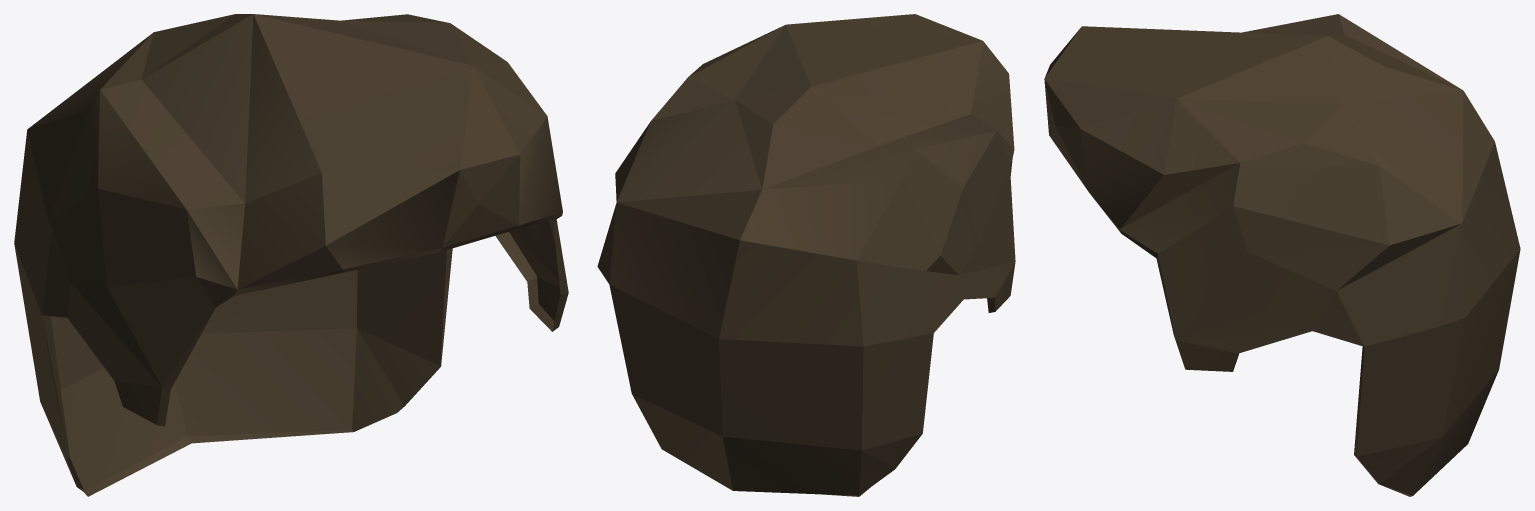
The model's file is Hair_01_SM.FBX.
3 views of the same model, side by side, from view 1: azimuth 30°, elevation 25°; view 2: azimuth 150°, elevation 25°; view 3: azimuth 270°, elevation 25° (orthographic). The views are drawn at different scales.
Parts seen in each view (by area): view 1: Hair_01_SM; view 2: Hair_01_SM; view 3: Hair_01_SM.
Part boxes in pixels (<box>): Hair_01_SM: <box>14,14,568,496</box>; Hair_01_SM: <box>597,14,1015,496</box>; Hair_01_SM: <box>1044,14,1520,496</box>.
Size of what is drawn, in the model's own units: 20.28 by 23.8 by 22.13.
